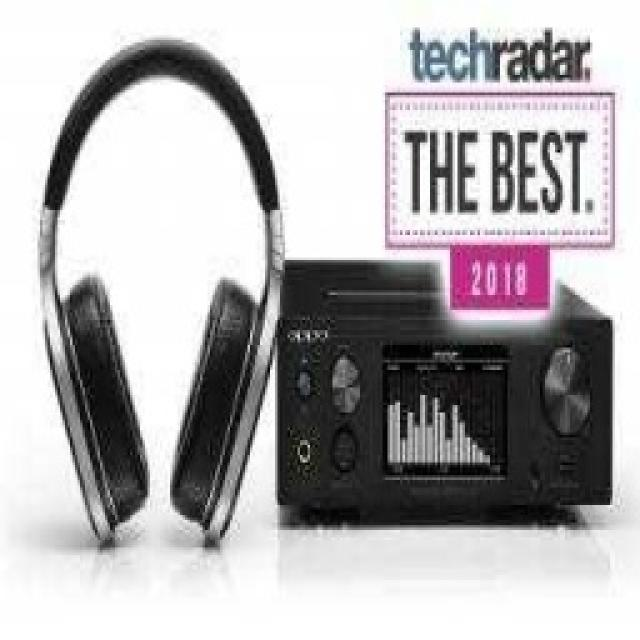headphones: (35, 35, 285, 547)
